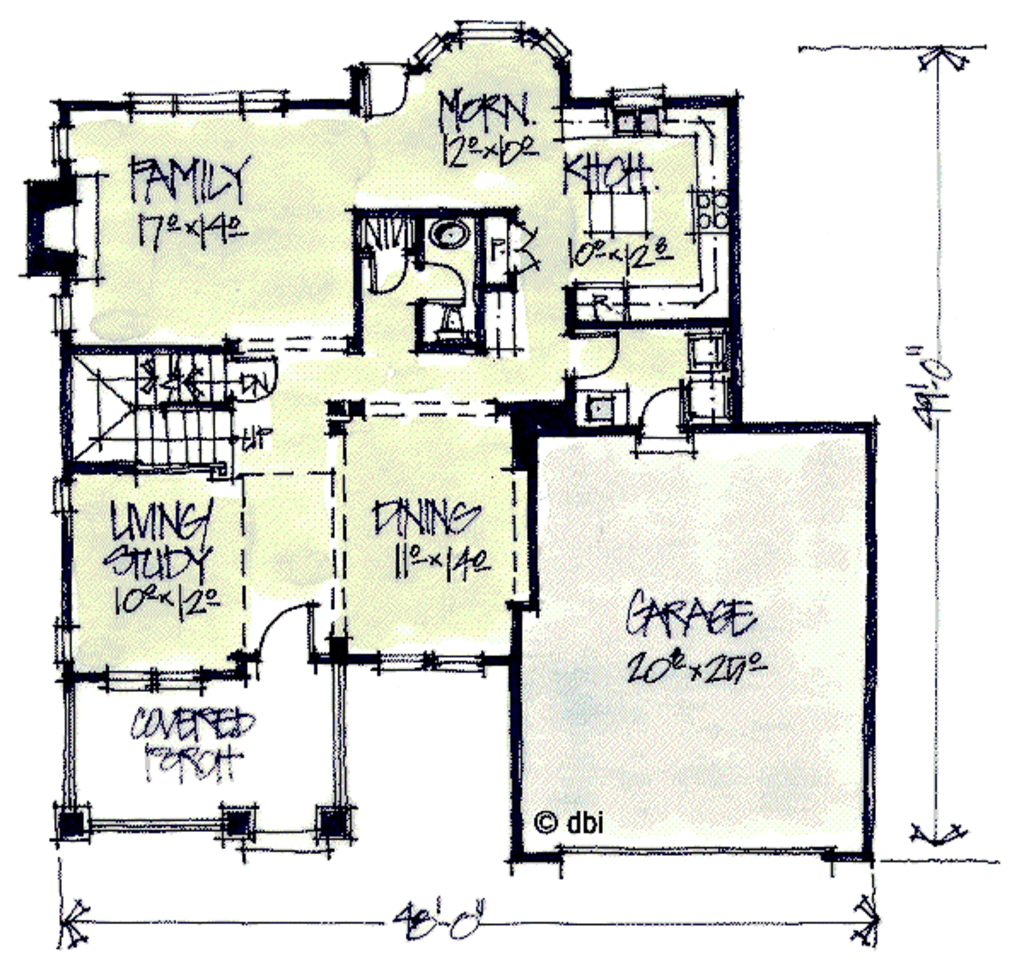door: (253, 594, 326, 664), (638, 383, 700, 458), (363, 56, 409, 126), (566, 325, 620, 379), (366, 243, 414, 296), (409, 256, 463, 302)
large_sink: (420, 304, 478, 352)
small_sink: (417, 207, 478, 252)
stairs: (69, 350, 241, 467)
twin_sink: (606, 101, 667, 140)
window: (129, 80, 302, 122), (360, 643, 487, 688), (100, 662, 212, 696), (44, 122, 82, 170), (54, 613, 81, 665), (50, 289, 79, 335), (48, 476, 79, 519)
